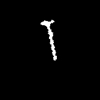half_double_crochet: (41, 20, 56, 59)
